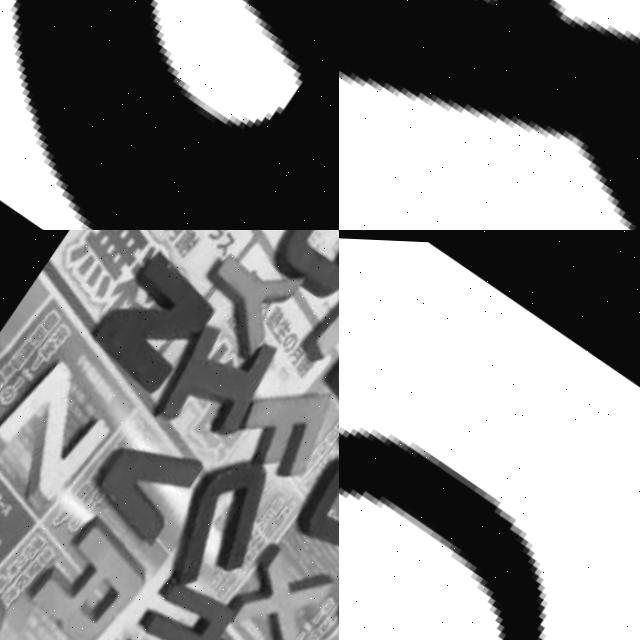9: (339, 244, 628, 640)
D: (0, 0, 339, 230), (260, 230, 339, 309)
F: (229, 361, 339, 488)
I: (149, 308, 284, 457)
L: (295, 260, 339, 397)
M: (115, 562, 239, 640)
N: (86, 246, 226, 399)
O: (287, 430, 339, 567)
R: (12, 507, 158, 640)
T: (294, 331, 339, 459)
U: (156, 442, 294, 599)
V: (76, 418, 207, 553)
X: (339, 0, 640, 230), (221, 532, 339, 640)
Y: (179, 230, 310, 365)
Z: (0, 346, 129, 520)
